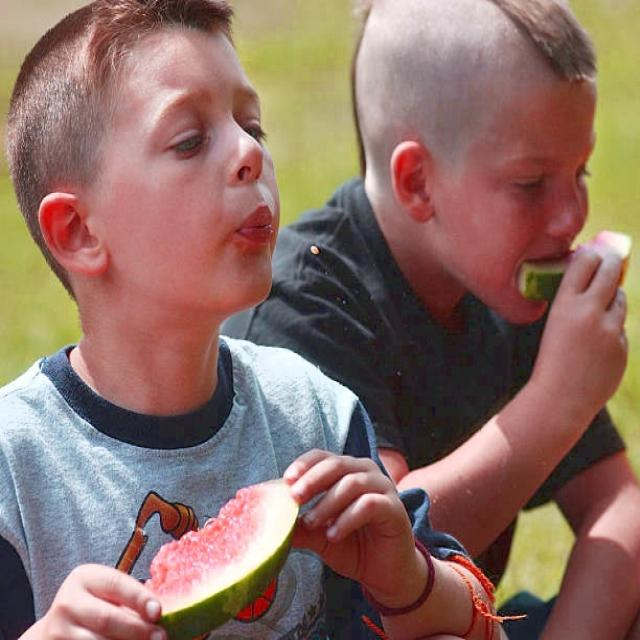Spitting: (5, 3, 324, 442)
